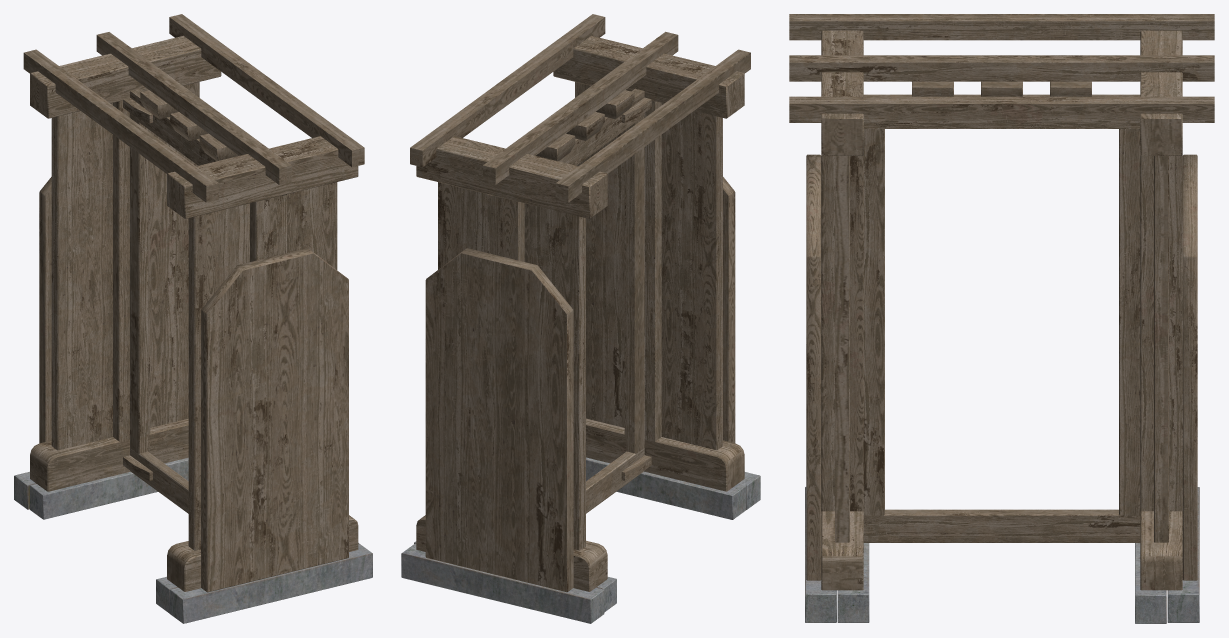
Rendered from SM_Door01b.fbx.
3 renders of one model, left to right at view 1: azimuth 30°, elevation 25°; view 2: azimuth 150°, elevation 25°; view 3: azimuth 270°, elevation 25°, orthographic. The views are drawn at different scales.
Parts seen in each view (by area): view 1: SM_Door01b; view 2: SM_Door01b; view 3: SM_Door01b.
Part boxes in pixels (x1=…): SM_Door01b: x1=14, y1=14, x2=372, y2=623; SM_Door01b: x1=401, y1=14, x2=760, y2=623; SM_Door01b: x1=789, y1=14, x2=1214, y2=623.
Size of the model in its own units: 121 by 200 by 265.
Materials: 2 (2 with a texture image).
